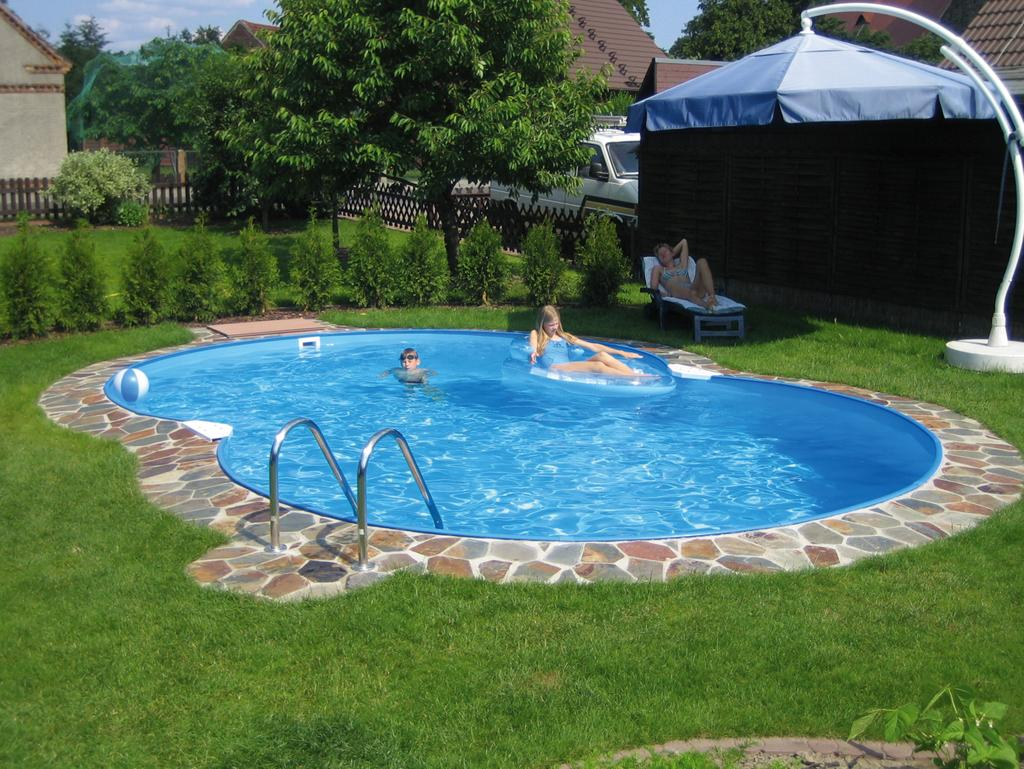face: (400, 352, 416, 372), (543, 316, 558, 335), (657, 245, 672, 263)
